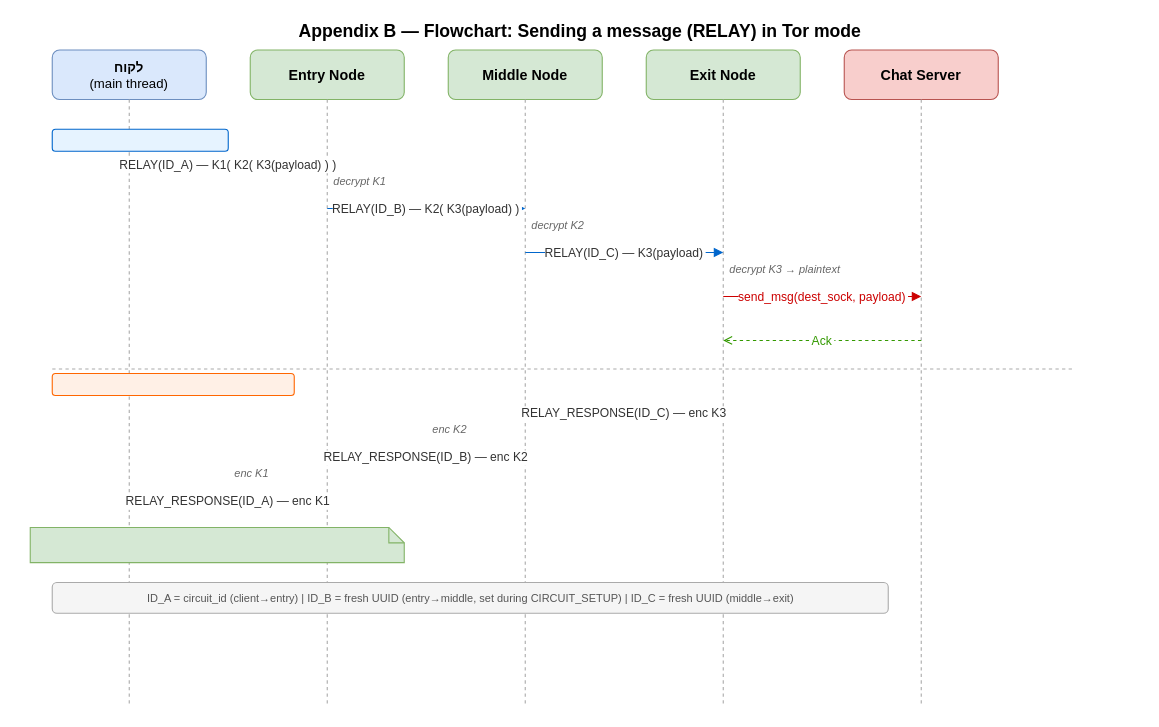
Some shapes in this 1159 by 727 pixel diagram are drawn without their labels. Here are the shapes that lost their labels. From the top down, the box of each, then its label:
(51, 128, 228, 151): ← נתיב קדימה →
(51, 372, 294, 395): ← נתיב חזרה (re-encrypt) →
(29, 526, 404, 563): decrypt K1 → K2 → K3 → Ack buffered in _buf ✓
